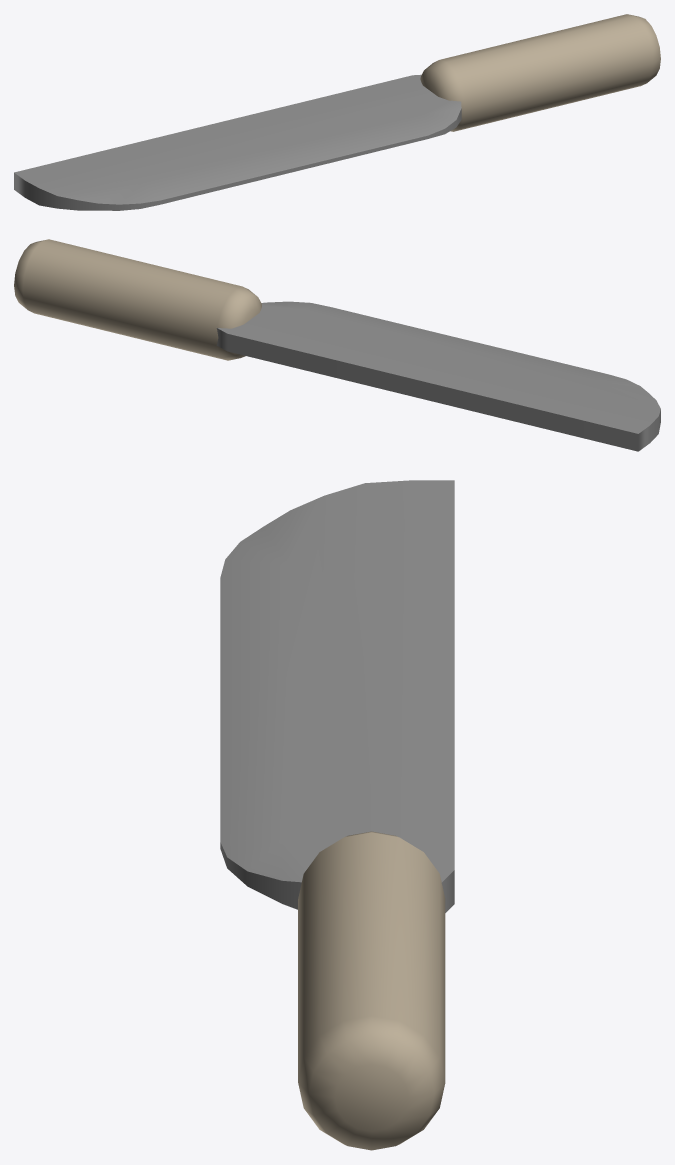
The model's file is knife.fbx.
3 views of the same model, one above another, from view 1: azimuth 30°, elevation 25°; view 2: azimuth 150°, elevation 25°; view 3: azimuth 270°, elevation 25° (orthographic). The views are drawn at different scales.
Parts seen in each view (by area): view 1: knife; view 2: knife; view 3: knife.
Part boxes in pixels (bbox=[...]): knife: bbox=[14, 14, 660, 210]; knife: bbox=[14, 239, 660, 451]; knife: bbox=[220, 480, 454, 1150].
Bounding box in the file's own units: 45.84 × 4.75 × 7.57.
